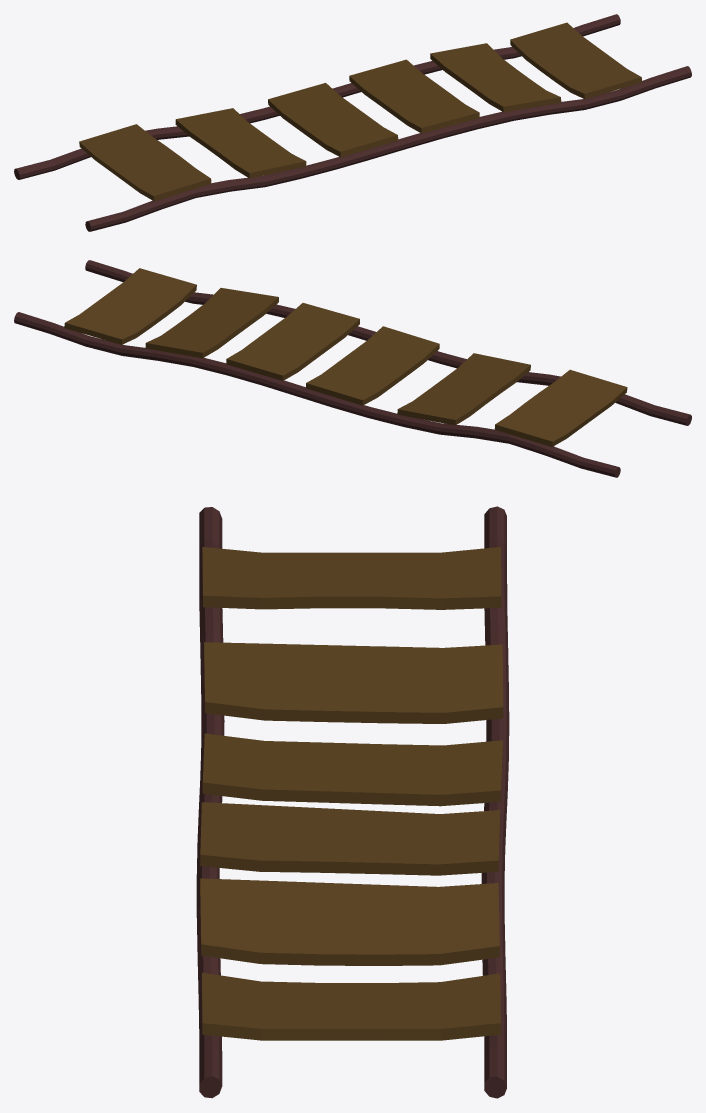
Rendered from kleineBrücke.fbx.
The picture shows the model from 3 angles, top to bottom: view 1: azimuth 30°, elevation 25°; view 2: azimuth 150°, elevation 25°; view 3: azimuth 270°, elevation 25°; orthographic projection. The views are drawn at different scales.
Parts seen in each view (by area): view 1: Bridge; view 2: Bridge; view 3: Bridge.
Boxes of the visible parts, x1,y1,x2,y2 form: Bridge: (14,14,691,231); Bridge: (14,260,691,477); Bridge: (196,506,509,1098).
Size of the model in its own units: 1102 by 46.87 by 248.
